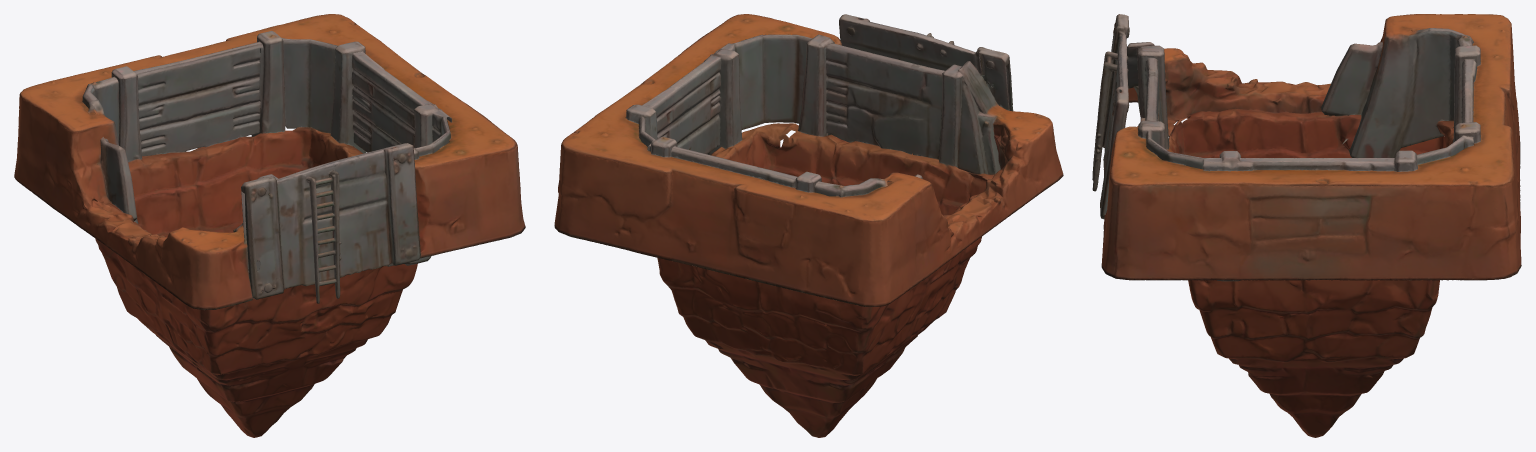
The model's file is grunt-regolit-4.glb.
3 renders of one model, left to right at view 1: azimuth 30°, elevation 25°; view 2: azimuth 150°, elevation 25°; view 3: azimuth 270°, elevation 25°, orthographic. The views are drawn at different scales.
Parts seen in each view (by area): view 1: geometry_0; view 2: geometry_0; view 3: geometry_0.
Boxes of the visible parts, left/top/right/bottom form: geometry_0: left=14, top=14, right=525, bottom=437; geometry_0: left=554, top=14, right=1063, bottom=437; geometry_0: left=1092, top=14, right=1521, bottom=437.
Size of the model in its own units: 0.975 by 0.9461 by 0.9897.
1 material, 1 textured.
